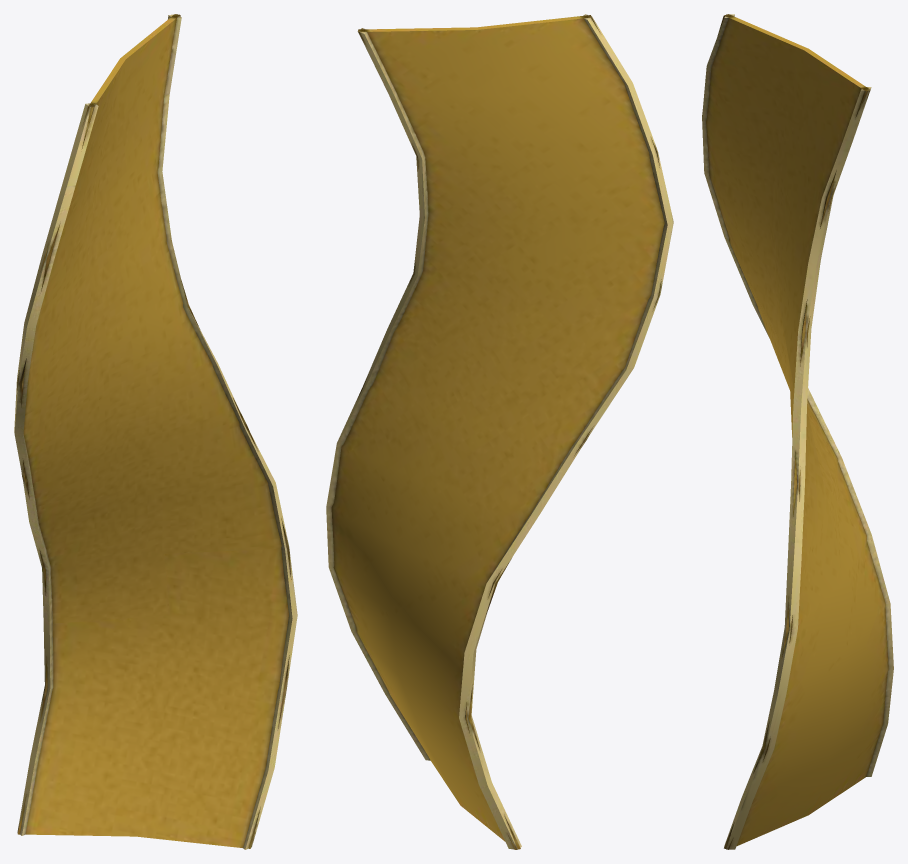
3 views of the same model, side by side, from view 1: azimuth 30°, elevation 25°; view 2: azimuth 150°, elevation 25°; view 3: azimuth 270°, elevation 25° (orthographic). The views are drawn at different scales.
Parts seen in each view (by area): view 1: Burnished_gold_silk, Fine_pale_gold_filigree; view 2: Burnished_gold_silk, Fine_pale_gold_filigree; view 3: Burnished_gold_silk, Fine_pale_gold_filigree.
Boxes of the visible parts, x1=… form: Burnished_gold_silk: x1=17, y1=14, x2=291, y2=848; Fine_pale_gold_filigree: x1=14, y1=14, x2=297, y2=849; Burnished_gold_silk: x1=331, y1=15, x2=664, y2=849; Fine_pale_gold_filigree: x1=326, y1=14, x2=673, y2=849; Burnished_gold_silk: x1=702, y1=14, x2=888, y2=849; Fine_pale_gold_filigree: x1=702, y1=14, x2=893, y2=849.
Size of the model in its own units: 0.3455 by 0.84 by 0.1926.
2 materials, 2 textured.
